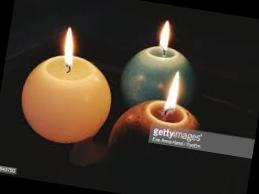Fire: (55, 26, 85, 77), (158, 66, 186, 119), (151, 14, 178, 59)
